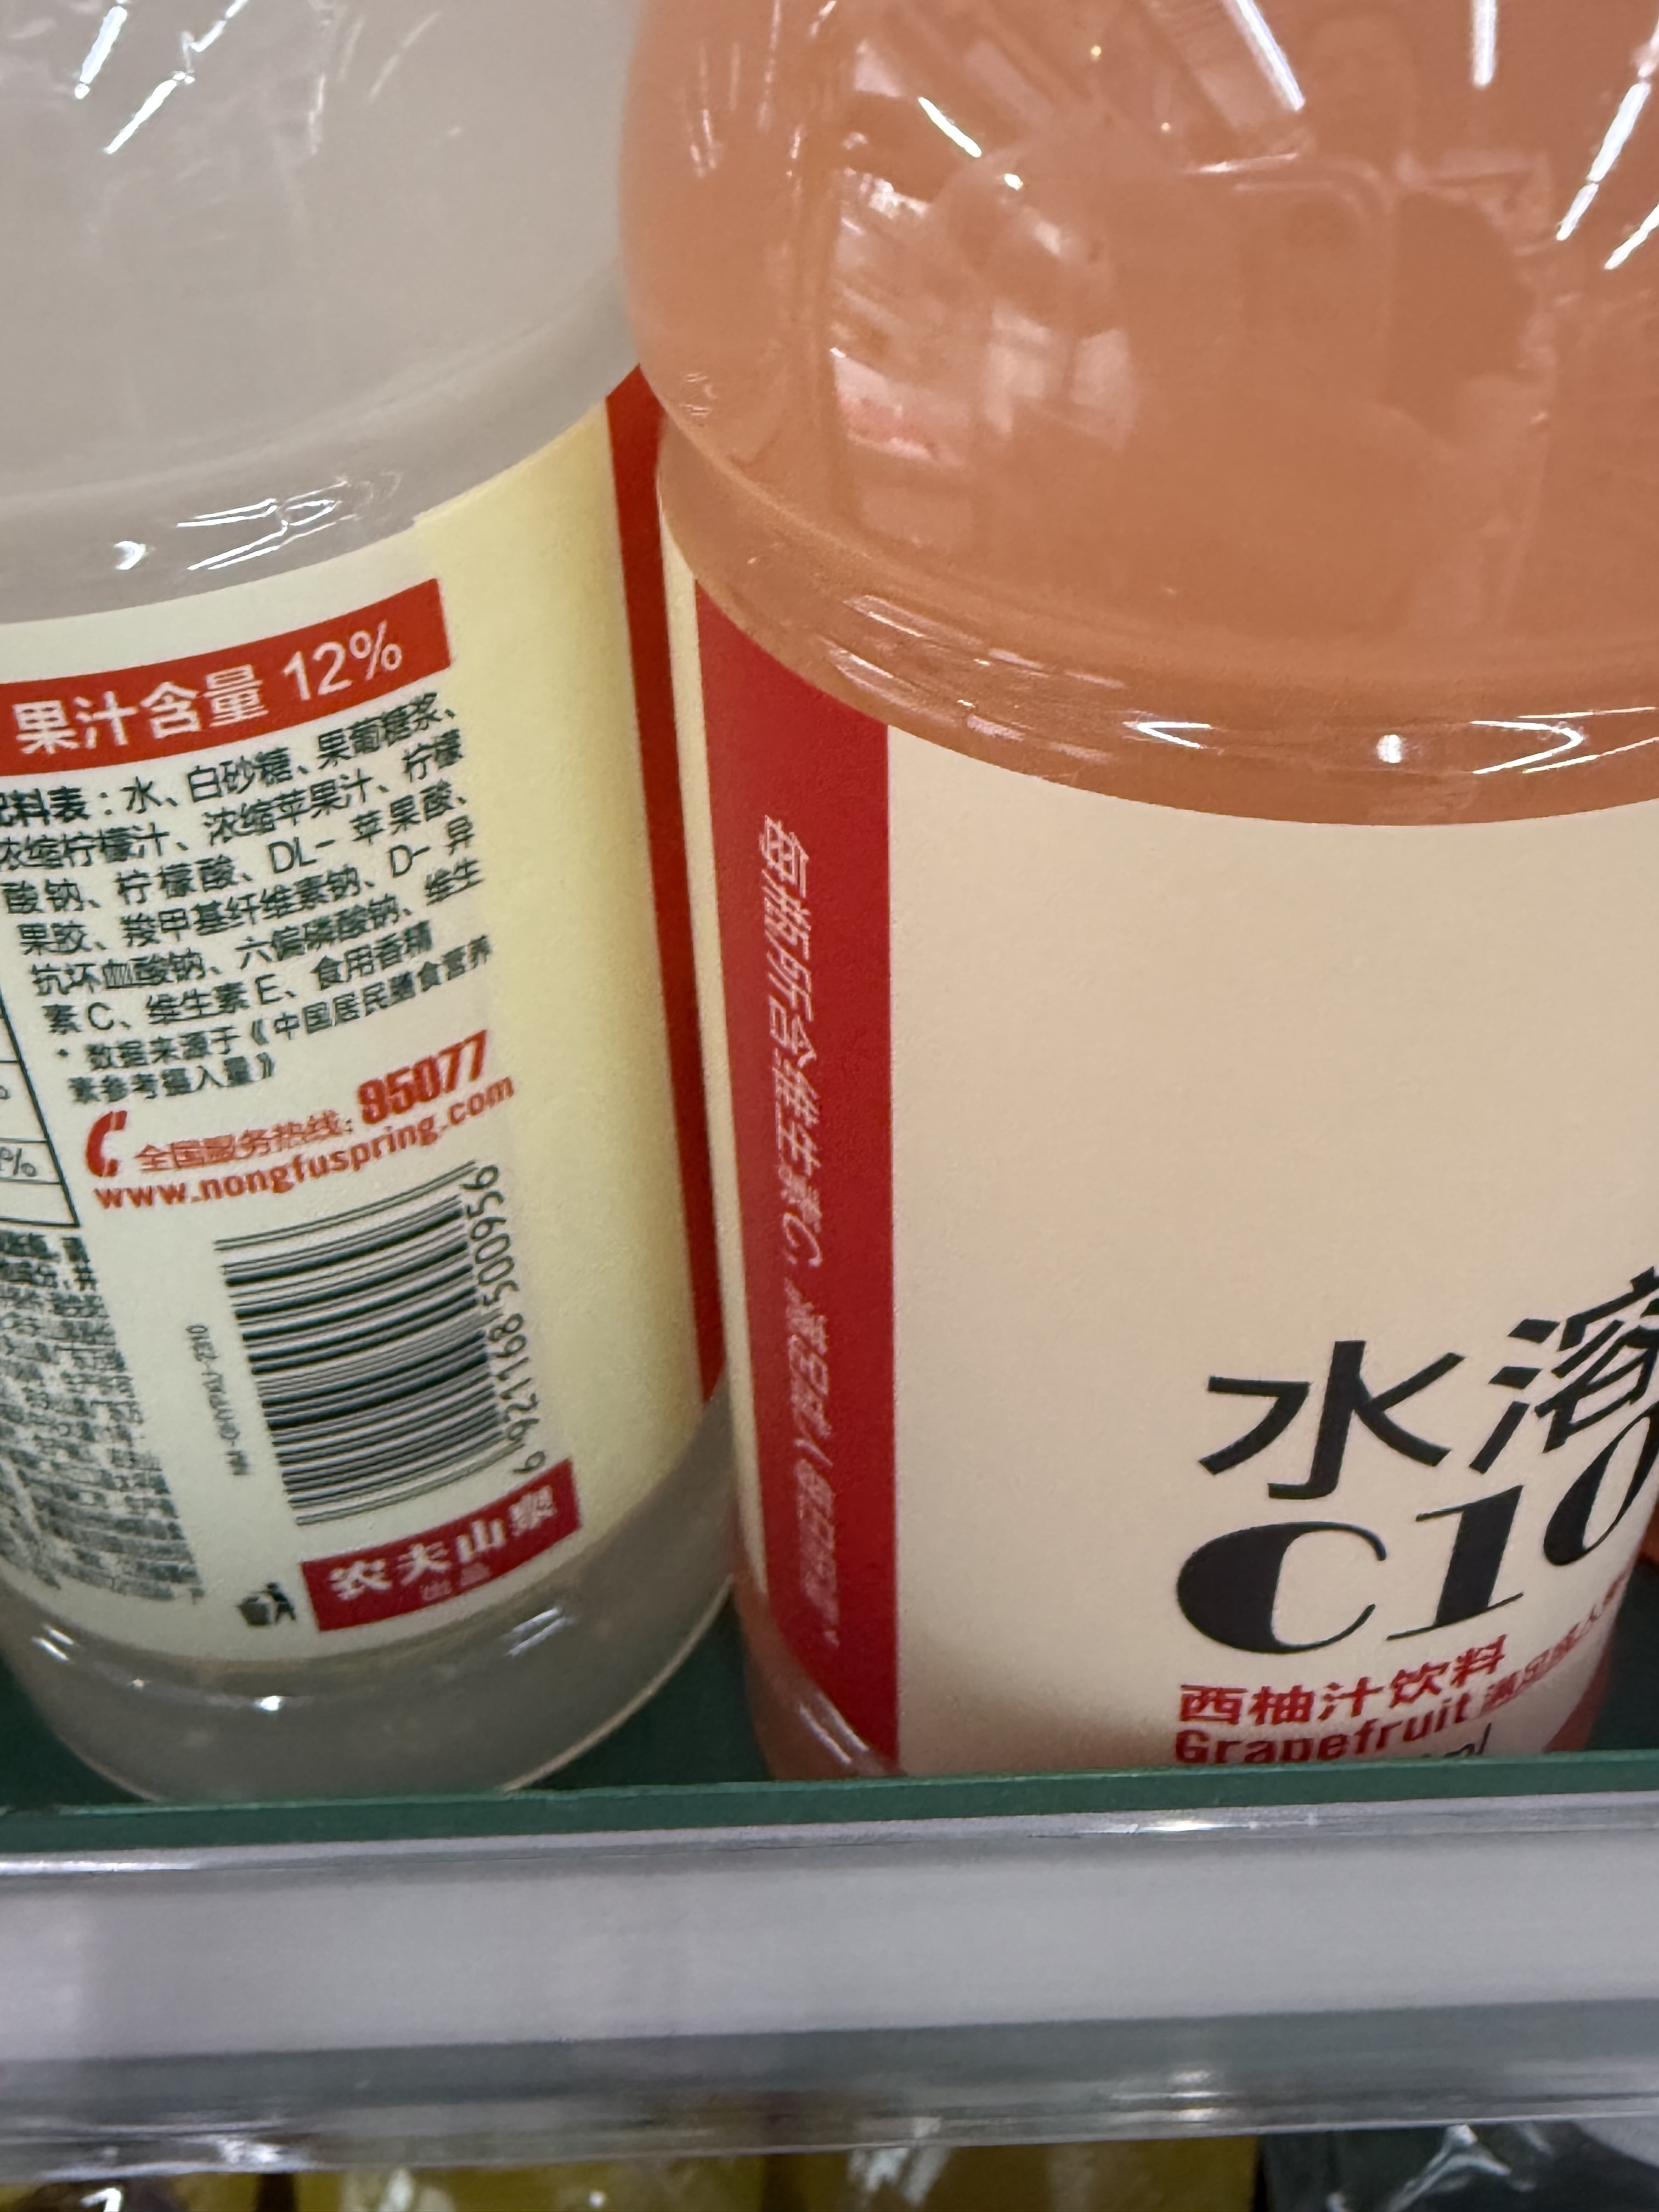bar: (213, 1143, 535, 1533)
